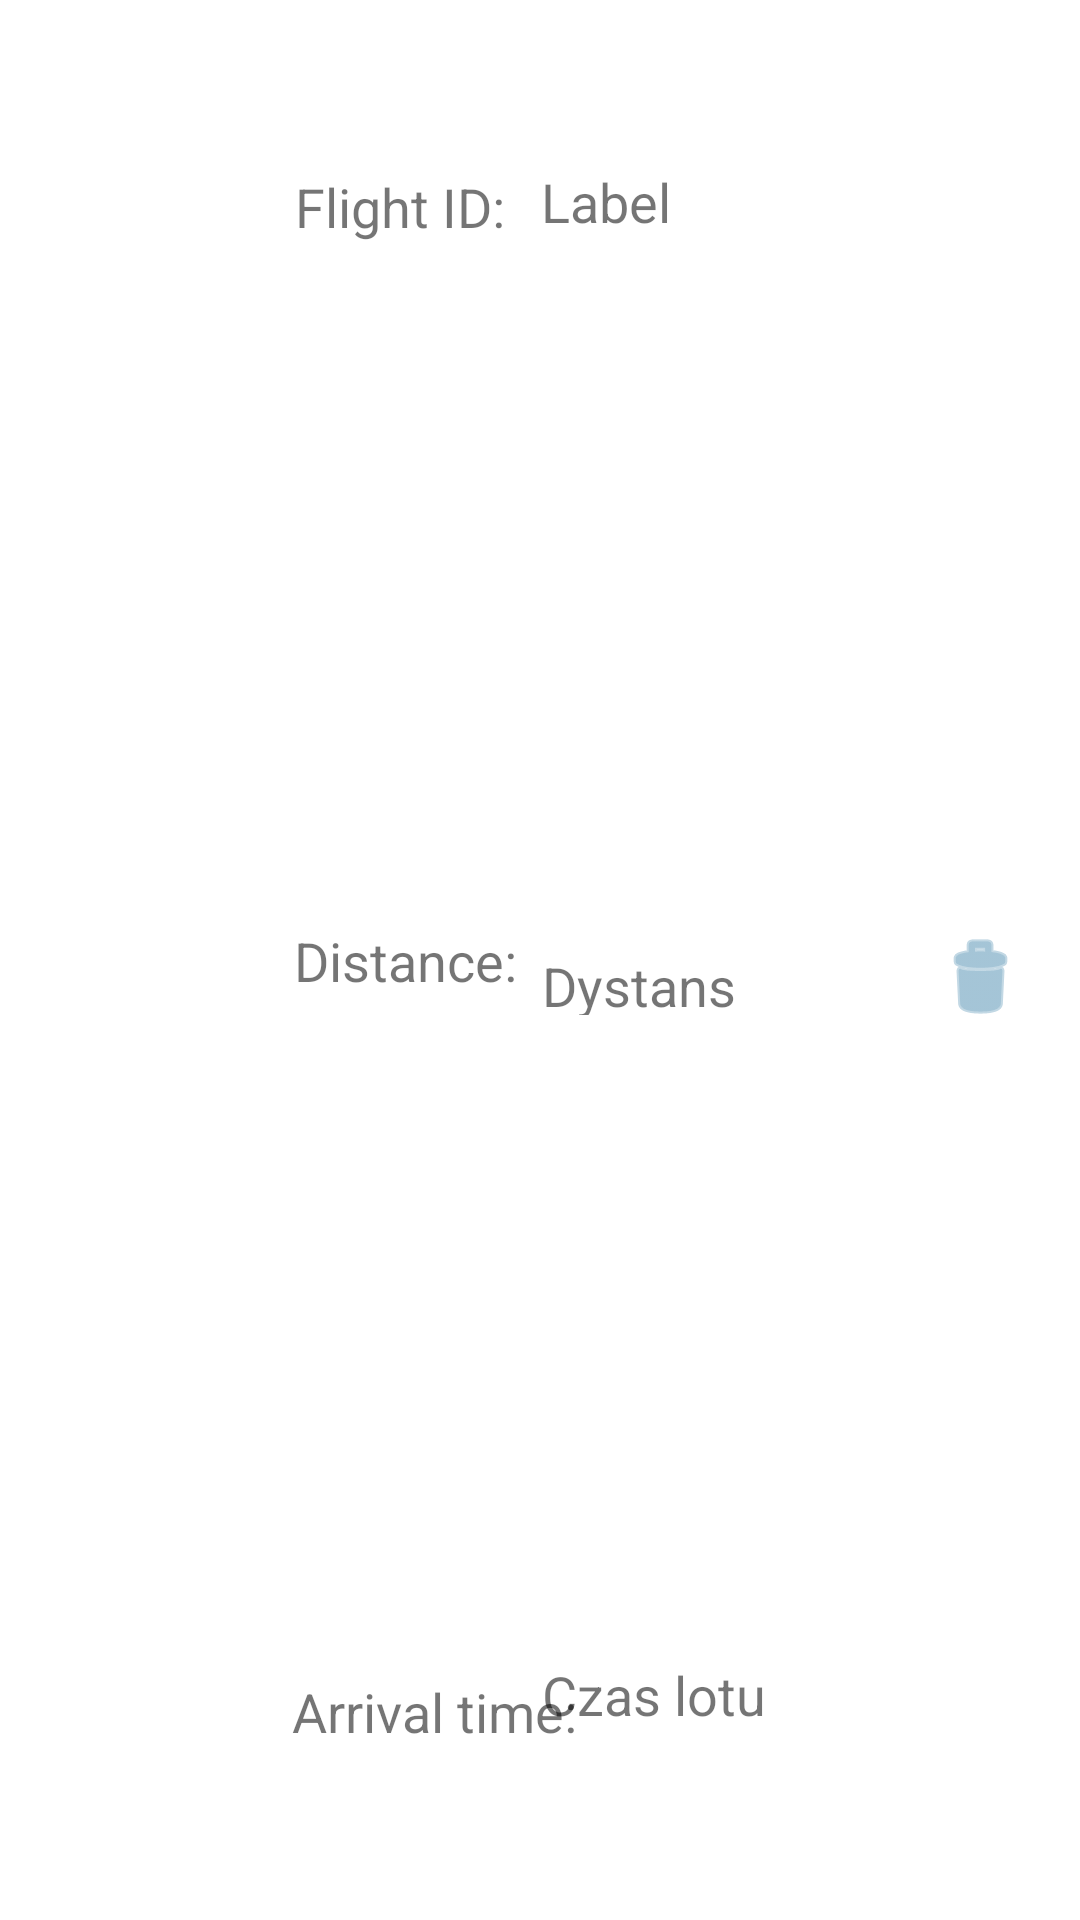

Icons on this 1080 × 1920 Android screen, each with its box as (x1, y1, x2, y2):
delete: (954, 939, 1007, 1014)
